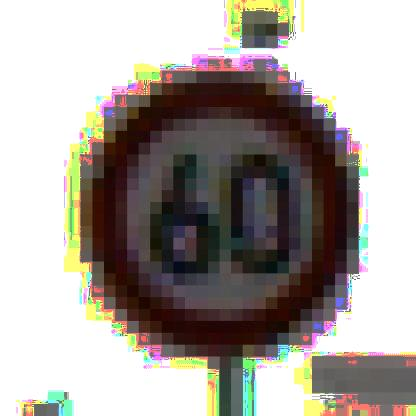Speed Limit -60-: (77, 68, 359, 369)
